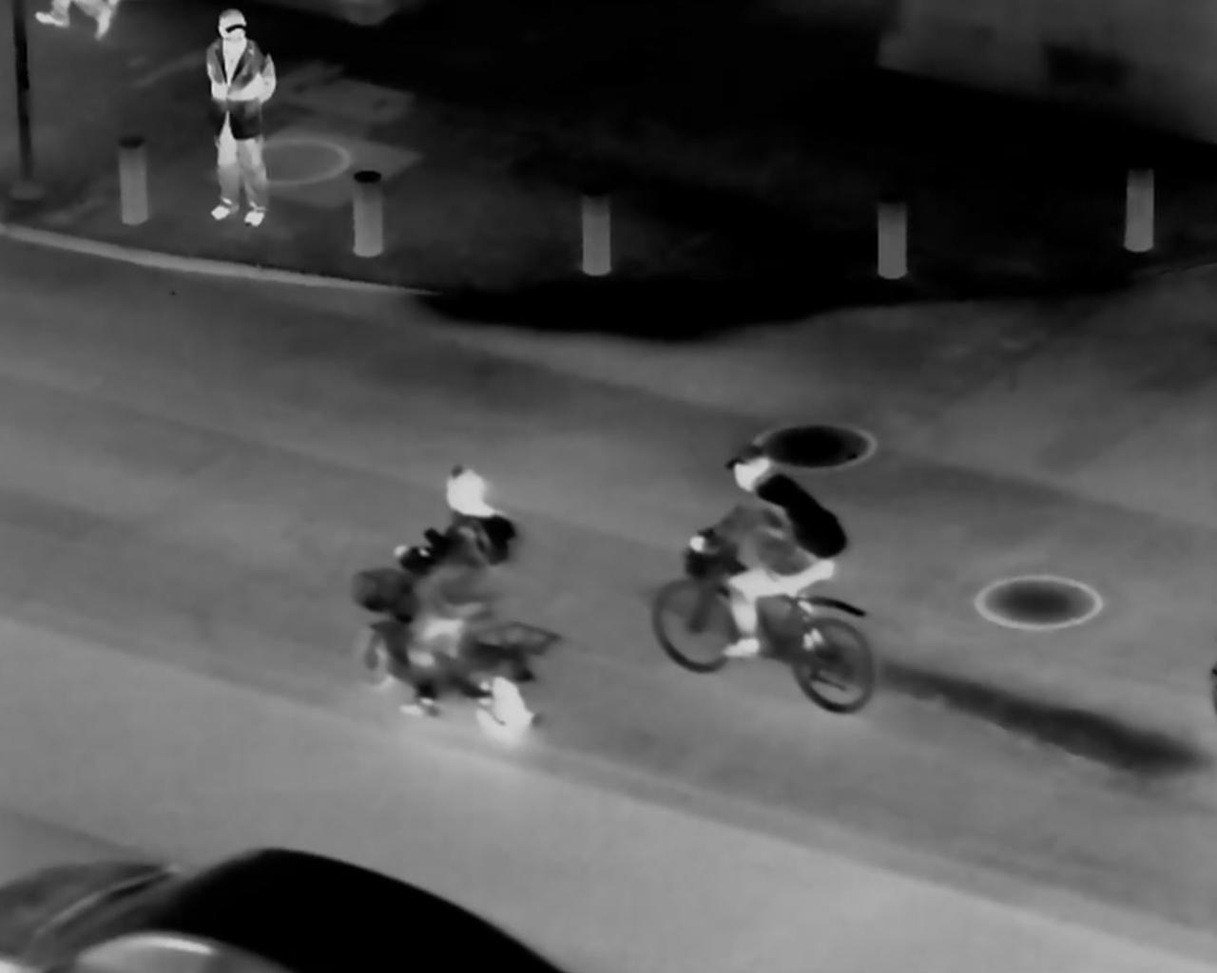person: (694, 442, 850, 661), (406, 458, 513, 722), (197, 9, 286, 233)
